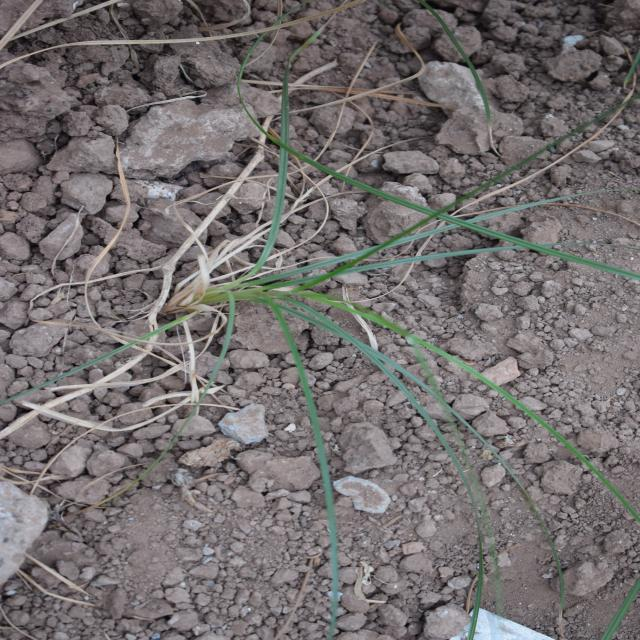sedge: (116, 0, 463, 579)
